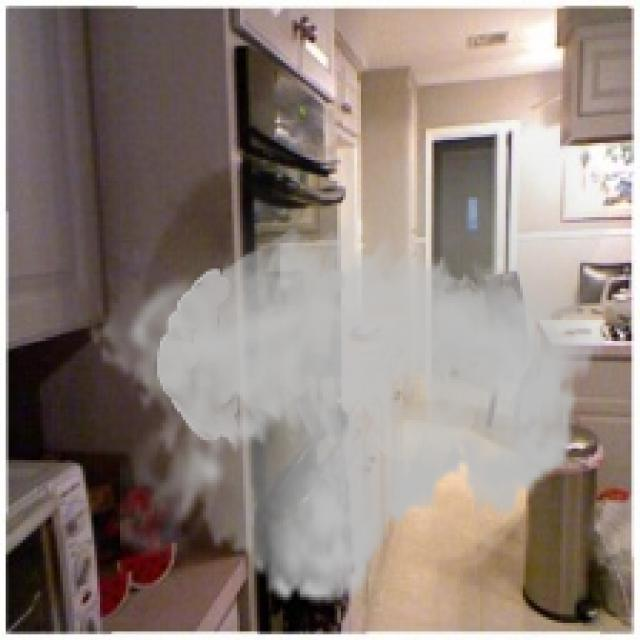smoke: (86, 71, 620, 626)
